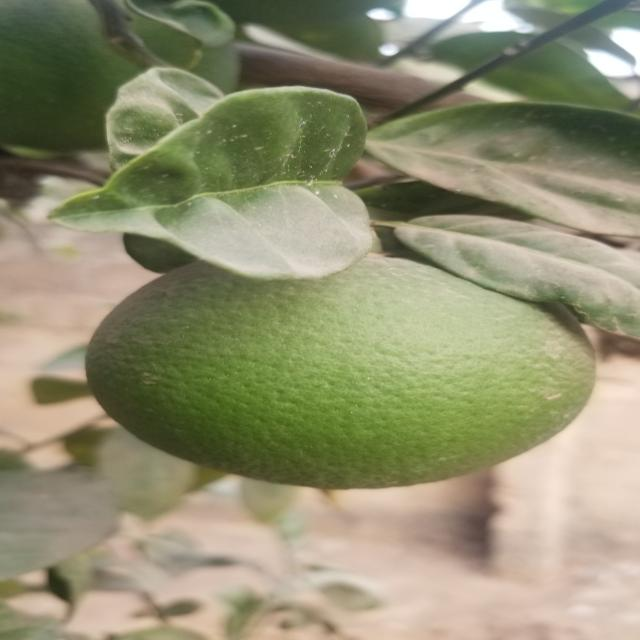Unripe: (88, 265, 601, 487)
